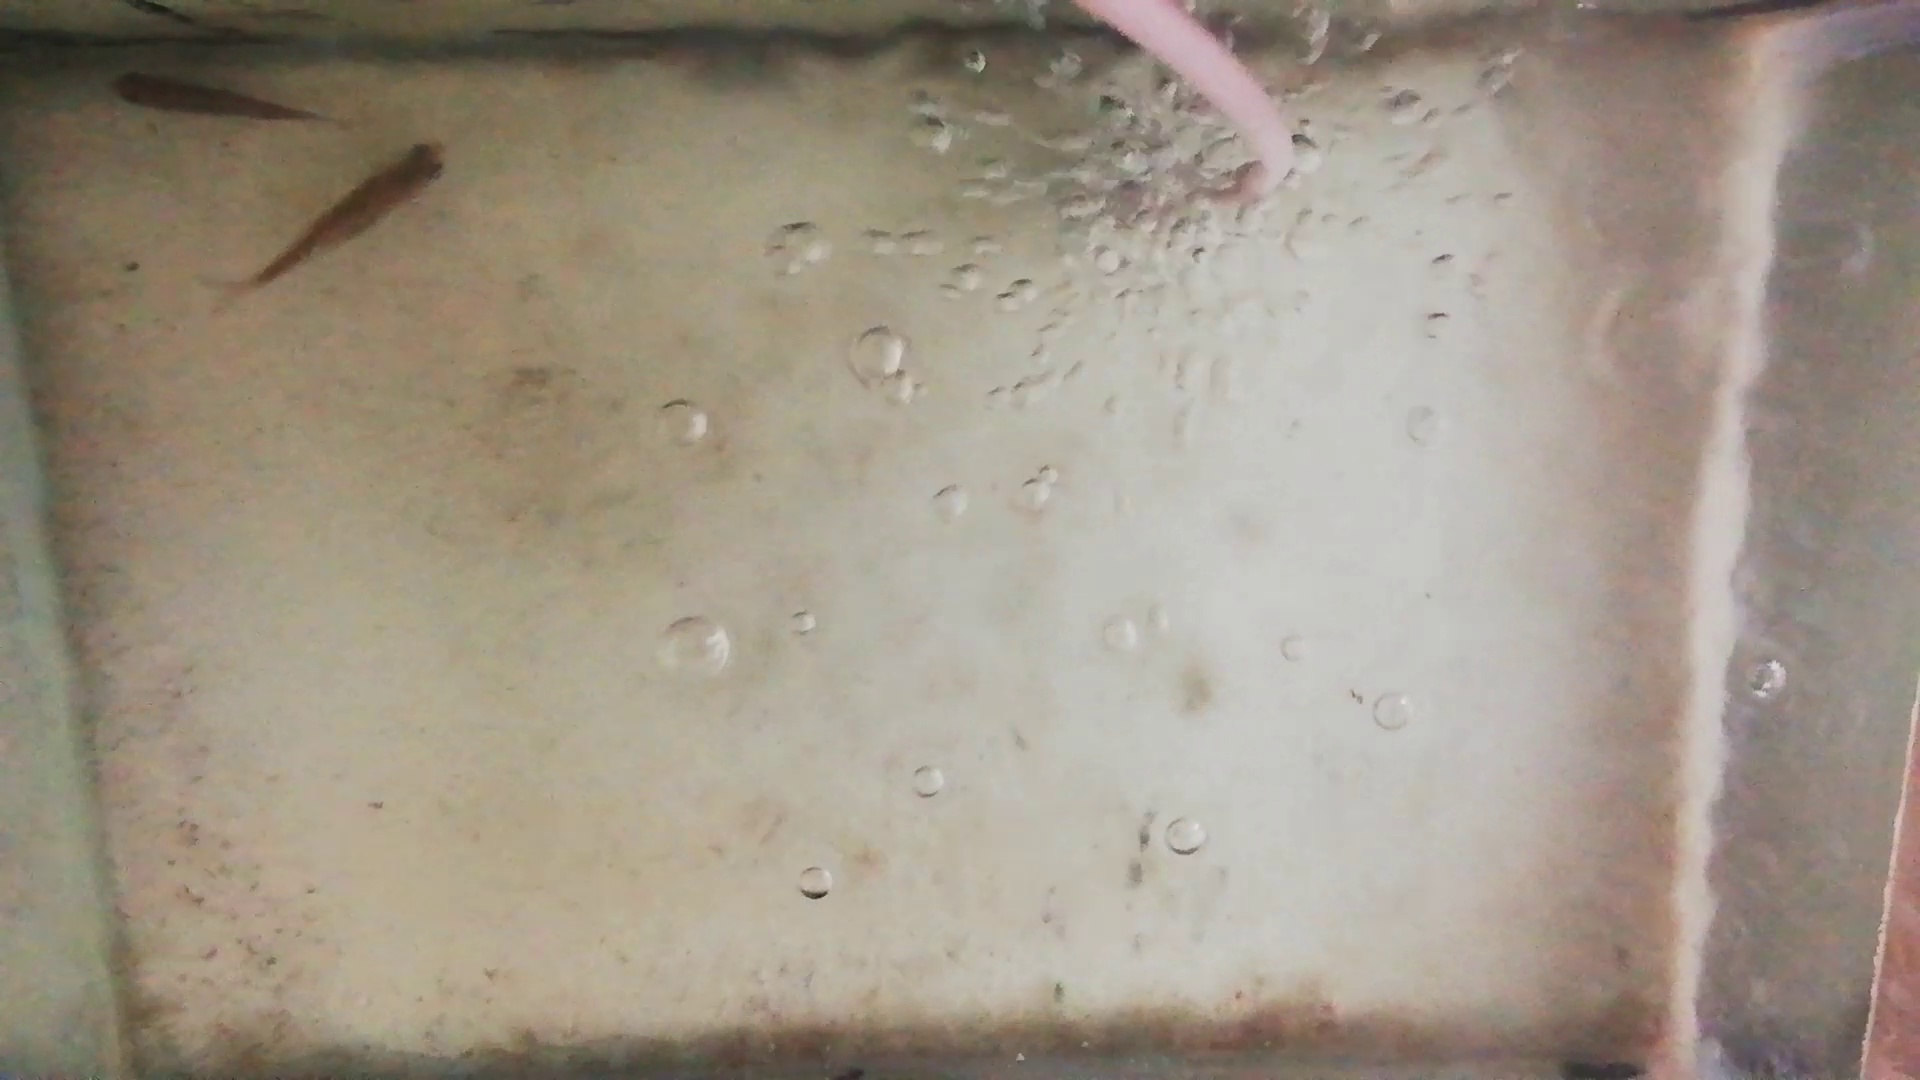fish: (255, 141, 451, 291), (107, 70, 314, 127)
